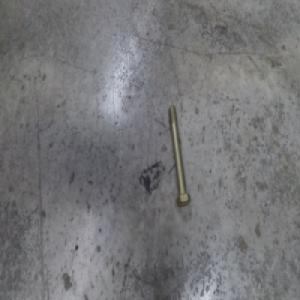Bolt: (167, 106, 191, 207)
